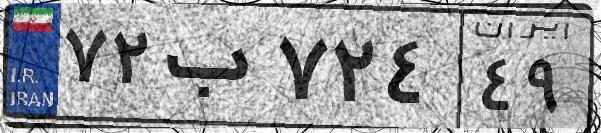2: (330, 28, 385, 110), (110, 28, 158, 98)
4: (385, 28, 445, 110), (475, 38, 525, 113)
7: (270, 28, 330, 110), (57, 26, 110, 100)
9: (525, 38, 570, 115)
ب: (158, 20, 270, 120)
